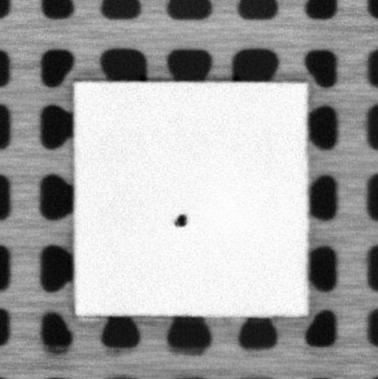DIE_INK: (173, 212, 187, 228)
